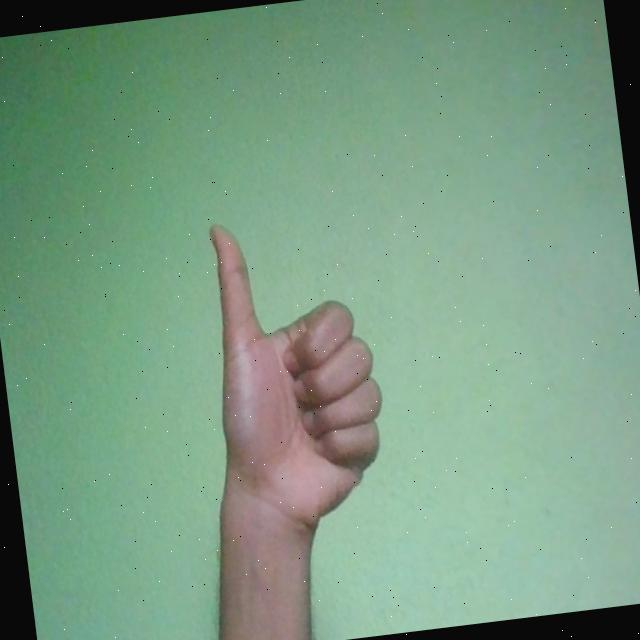Good Job: (198, 204, 398, 544)
